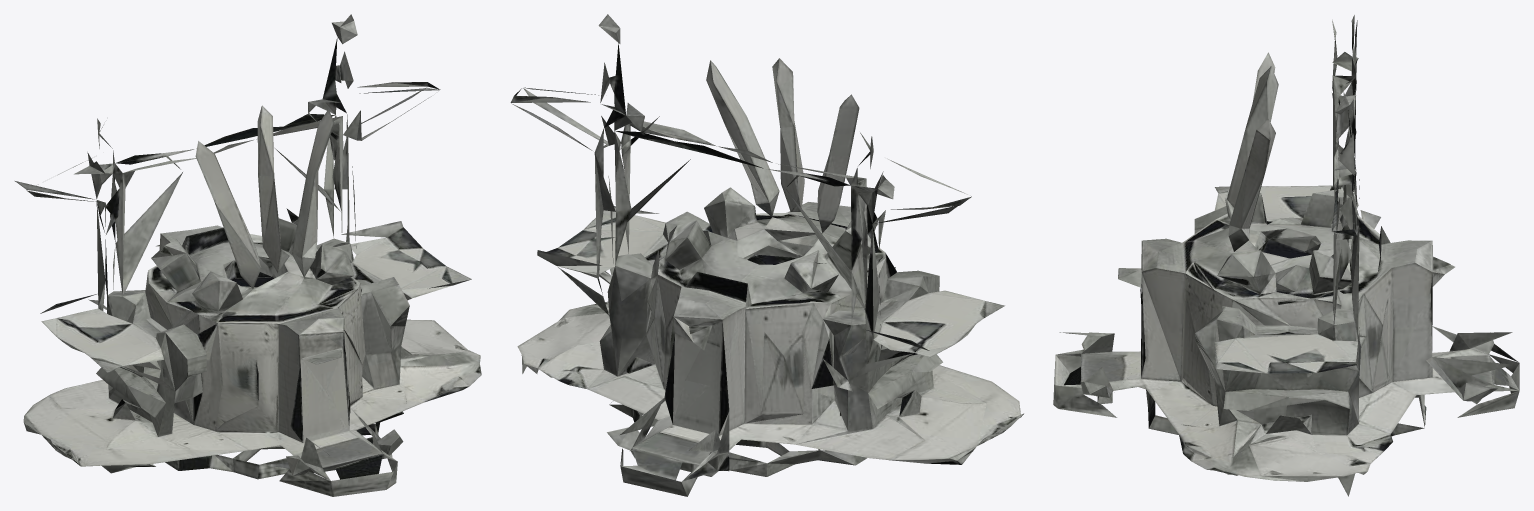
Rendered from facility-drive.glb.
3 views of the same model, side by side, from view 1: azimuth 30°, elevation 25°; view 2: azimuth 150°, elevation 25°; view 3: azimuth 270°, elevation 25° (orthographic). The views are drawn at different scales.
Bounding box in the file's own units: 1.88 × 1.53 × 1.75.
1 material, 1 textured.
